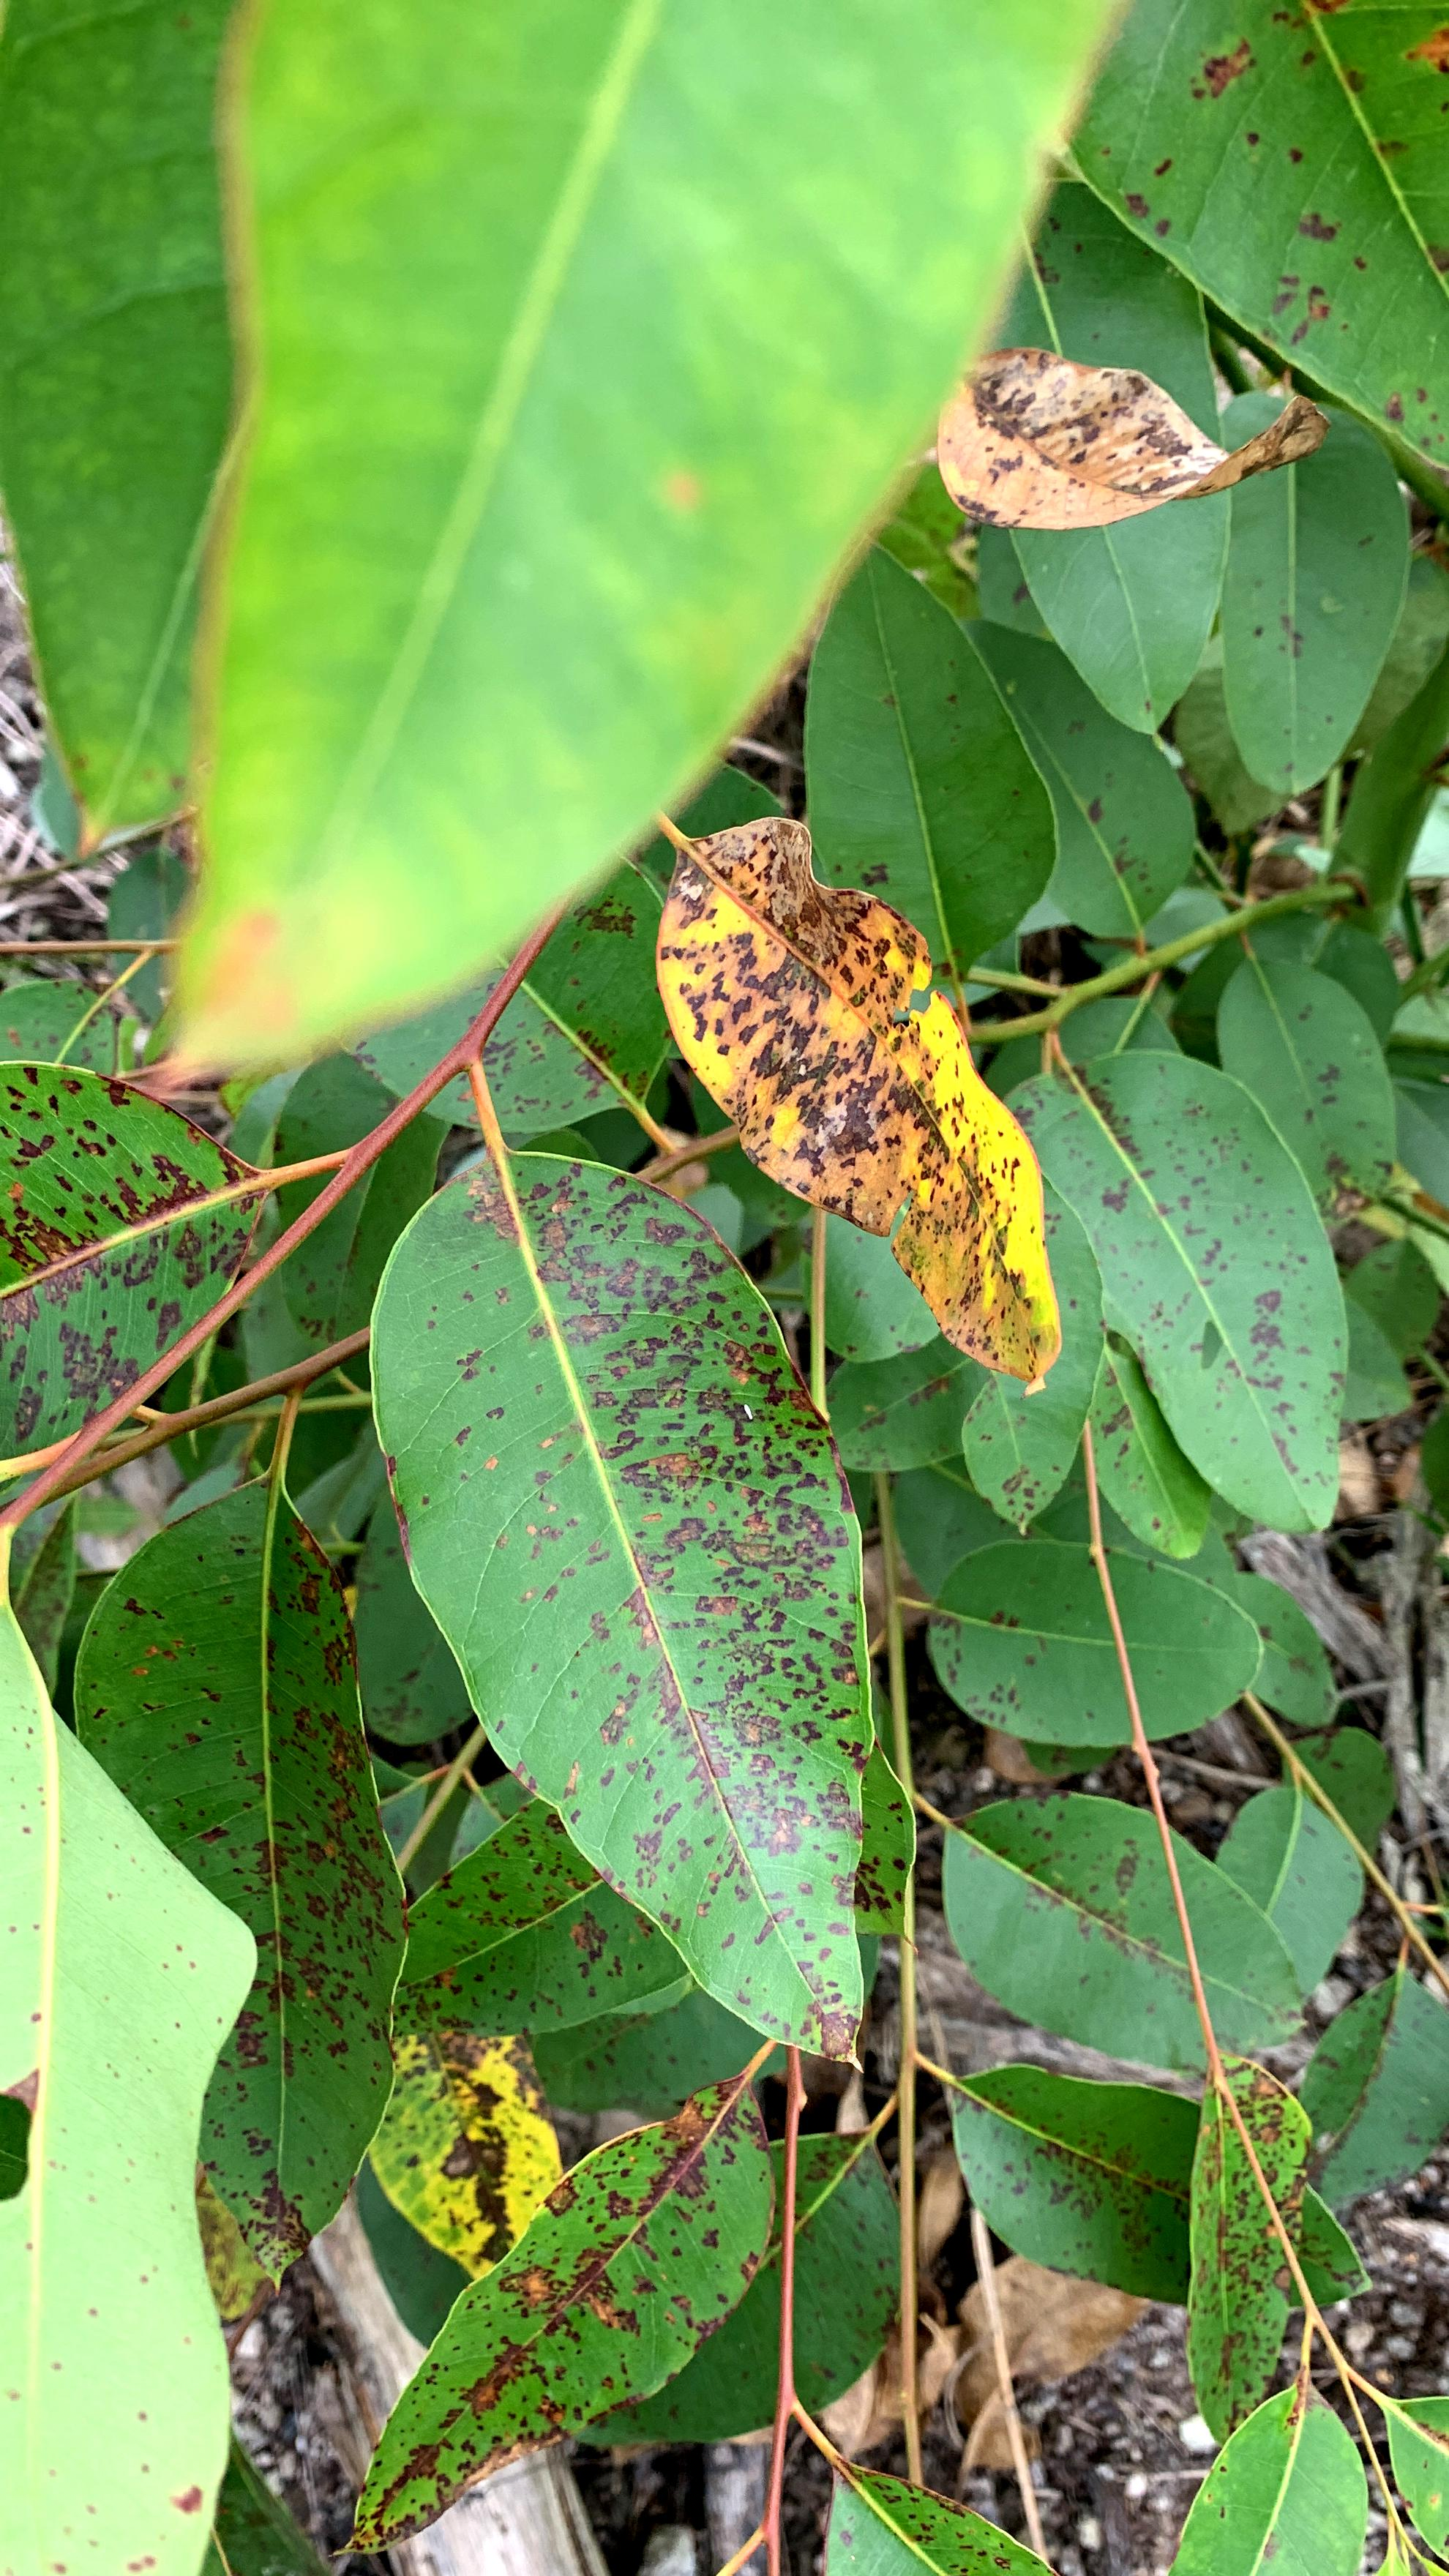Xanthomonas: (425, 1136, 952, 2089), (653, 849, 1104, 1373), (88, 1534, 387, 2302), (361, 2102, 777, 2546), (0, 1051, 267, 1486), (630, 2141, 893, 2470), (389, 1790, 665, 2059), (975, 2061, 1207, 2353), (962, 1780, 1198, 2005), (1191, 2006, 1302, 2452), (832, 2449, 1033, 2576)
